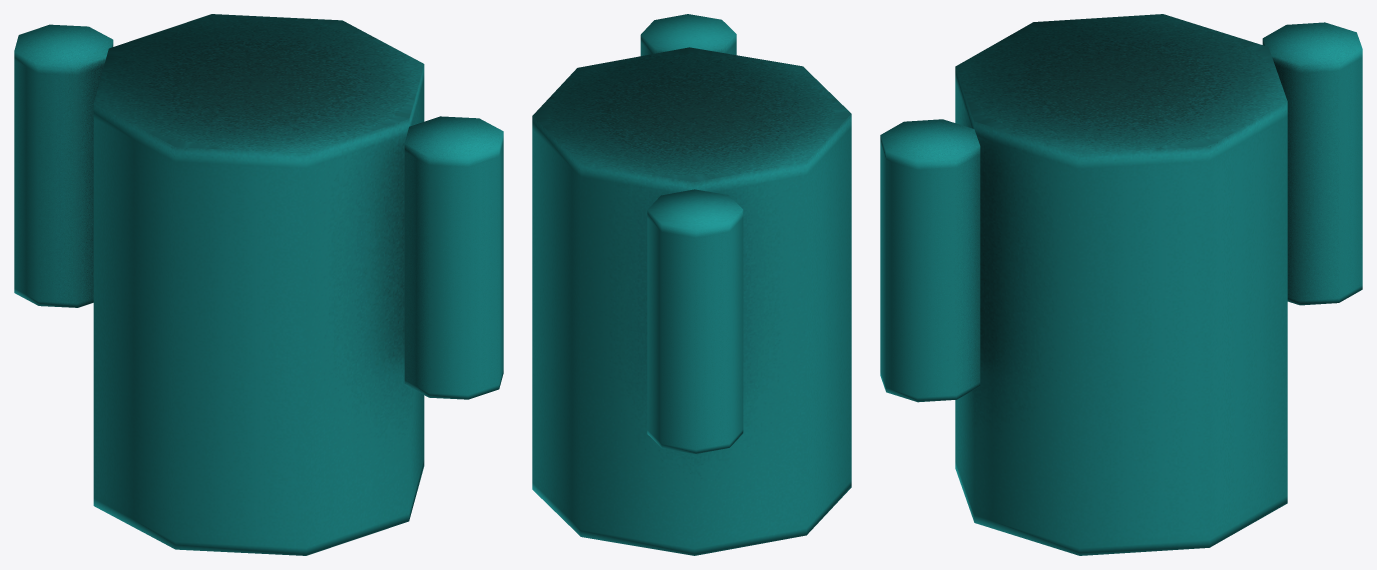
The model's file is Android_lightblue.dae.
3 renders of one model, left to right at view 1: azimuth 30°, elevation 25°; view 2: azimuth 150°, elevation 25°; view 3: azimuth 270°, elevation 25°, orthographic. The views are drawn at different scales.
Visible parts, largest first — view 1: Body, LeftHand, RightHand; view 2: Body, RightHand, LeftHand; view 3: Body, LeftHand, RightHand.
Boxes of the visible parts, x1,y1,x2,y2 form: Body: [93, 14, 424, 555]; LeftHand: [404, 116, 503, 399]; RightHand: [14, 24, 113, 307]; Body: [532, 47, 851, 555]; RightHand: [647, 189, 743, 453]; LeftHand: [640, 14, 736, 55]; Body: [955, 14, 1287, 555]; LeftHand: [880, 119, 980, 402]; RightHand: [1262, 22, 1362, 305].
Bounding box in the file's own units: 1.94 × 2.81 × 2.58.
1 material, 1 textured.
